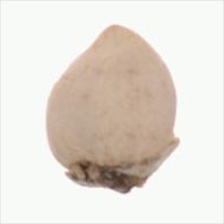L1: (61, 160, 144, 196), (94, 23, 139, 40)
L2: (45, 24, 180, 194)
